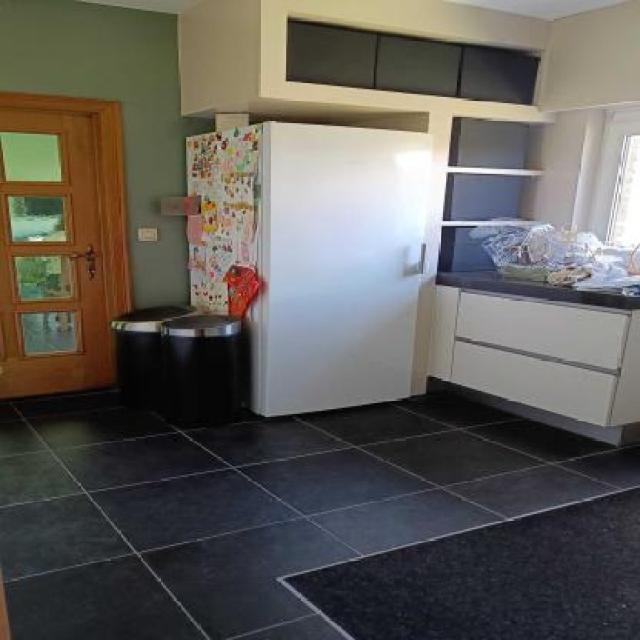floor: (3, 383, 640, 638)
